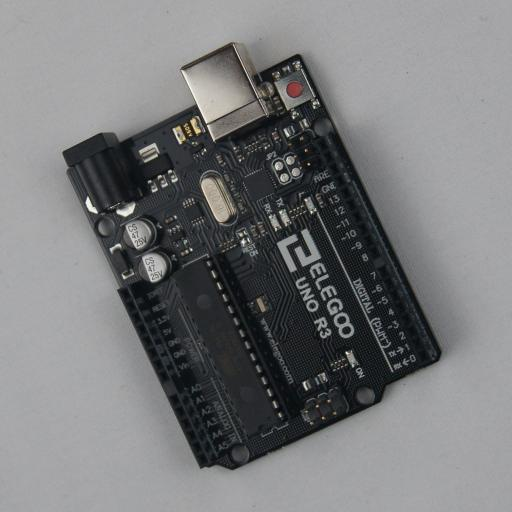Arduino Uno -Black-: (62, 42, 443, 470)
